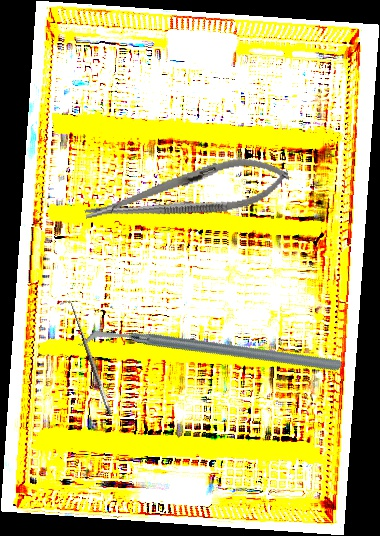Chopper: (78, 239, 344, 467)
Hook Surgical: (59, 296, 114, 419)
Needle Holder: (80, 148, 293, 239)
